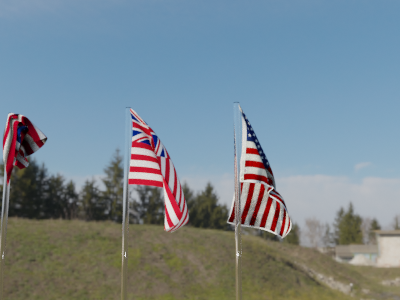America flag: (227, 100, 295, 238)
Liberia flag: (4, 109, 50, 184)
Malaysia flag: (126, 108, 194, 233)
